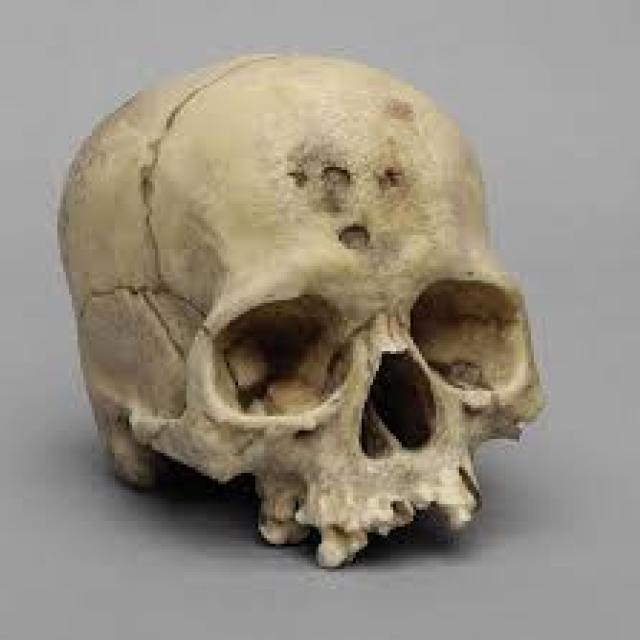skull: (42, 48, 558, 572)
